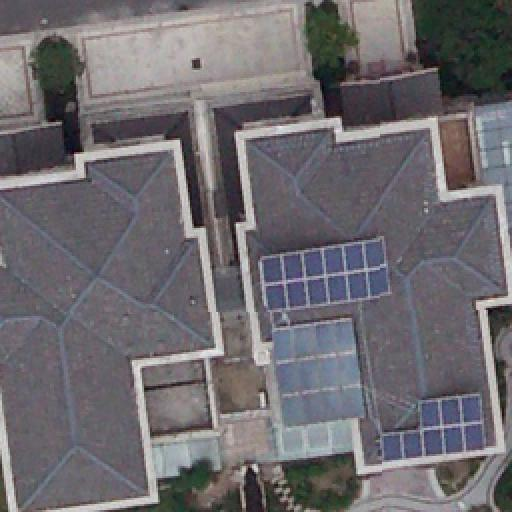solar-panel: (260, 240, 392, 312), (380, 394, 484, 462)
